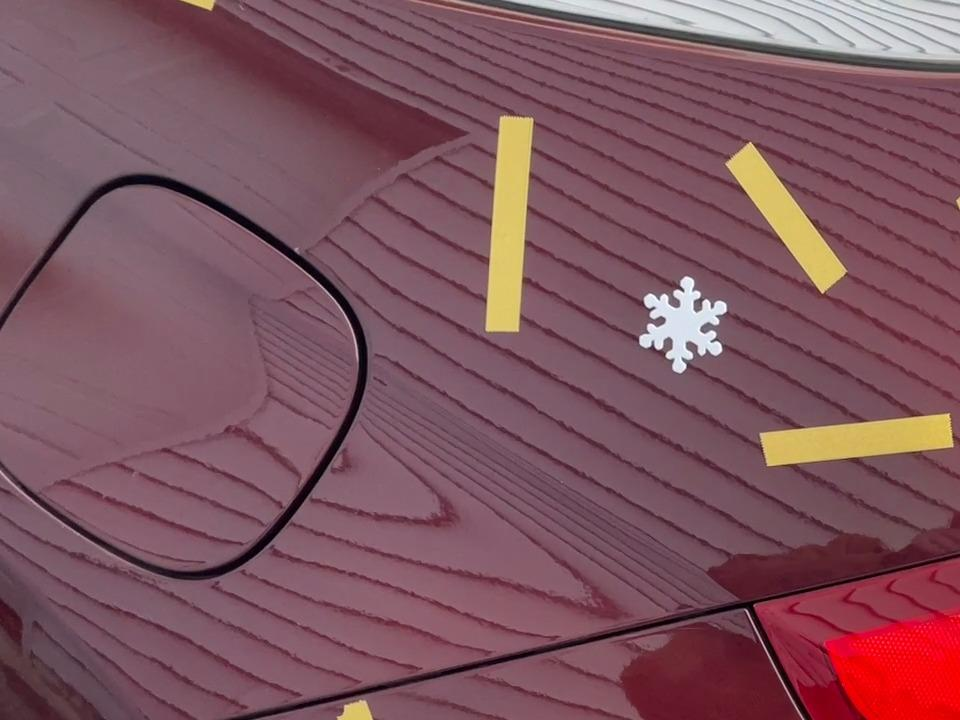dent: (631, 264, 733, 380)
scratch: (716, 126, 856, 307), (474, 116, 551, 344), (746, 398, 960, 480), (321, 693, 464, 720), (948, 178, 960, 296)
